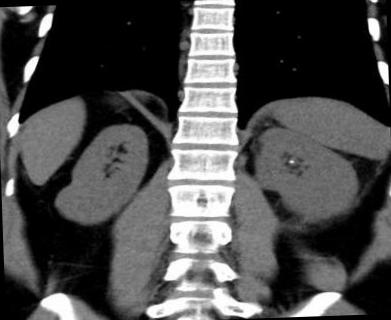Tas_Var: (287, 158, 295, 164)
